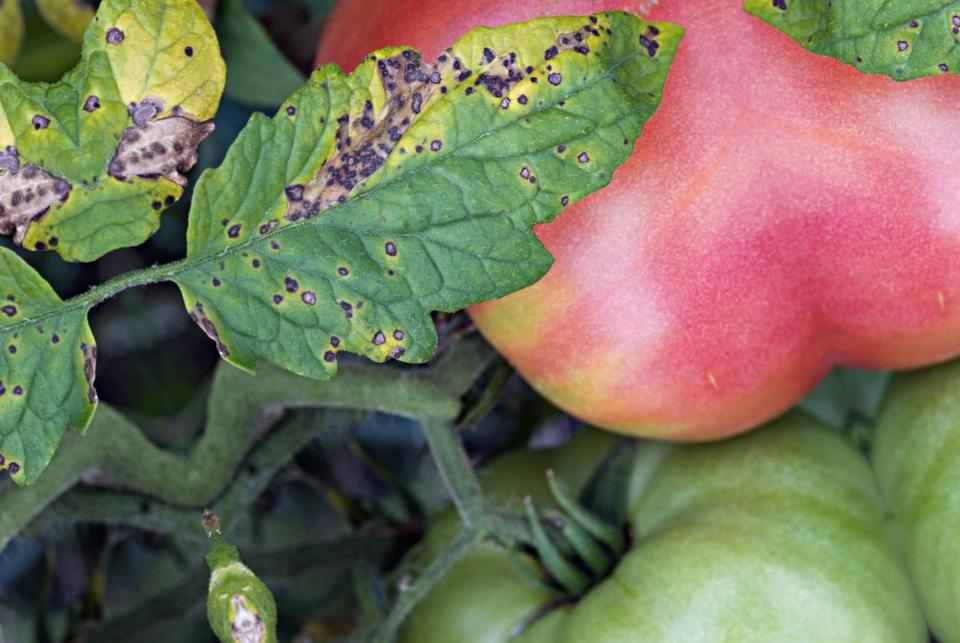Tomato Septoria leaf spot: (115, 0, 743, 408), (33, 0, 275, 251)
